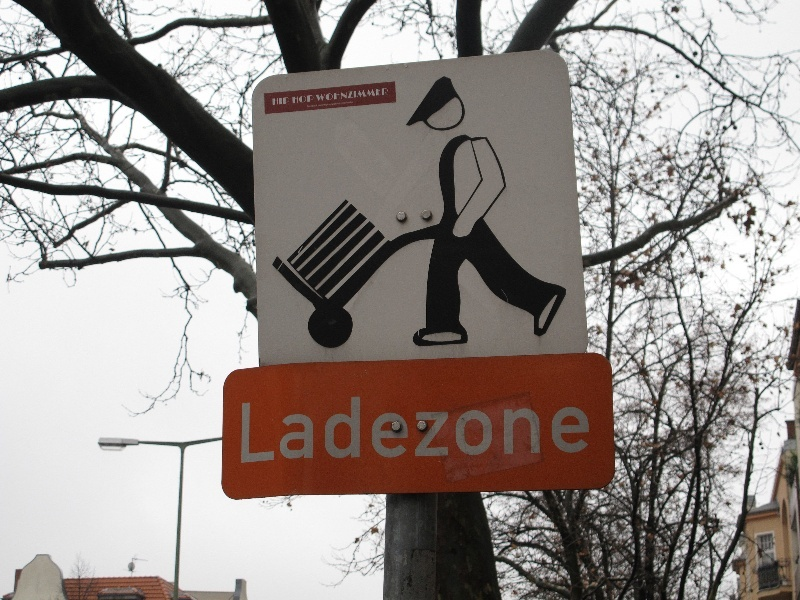text: (257, 384, 272, 465), (273, 384, 288, 465), (289, 384, 304, 465), (305, 384, 320, 465), (321, 384, 336, 465), (337, 384, 352, 465), (353, 384, 368, 465), (369, 384, 384, 465), (385, 384, 400, 465), (401, 384, 416, 465), (417, 384, 432, 465), (433, 384, 448, 465), (449, 384, 464, 465), (465, 384, 480, 465), (481, 384, 496, 465), (497, 384, 512, 465), (513, 384, 528, 465), (529, 384, 544, 465), (545, 384, 560, 465), (561, 384, 576, 465), (577, 384, 592, 465), (242, 384, 256, 465), (321, 88, 336, 102), (337, 88, 352, 102), (353, 88, 368, 102), (369, 88, 384, 102), (273, 97, 288, 106), (337, 101, 353, 108), (321, 101, 336, 108), (293, 95, 304, 104), (308, 101, 320, 108), (305, 95, 314, 104), (316, 88, 320, 102), (385, 88, 388, 102), (289, 97, 290, 106)
